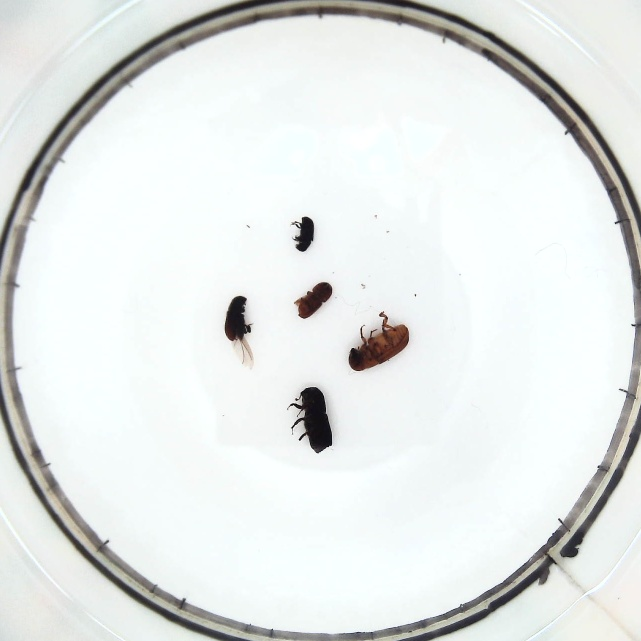armandi: (223, 295, 255, 363)
boerner: (288, 385, 333, 456)
coleoptera: (290, 214, 317, 256)
leconte: (347, 313, 413, 373)
linnaeus: (295, 280, 333, 322)
